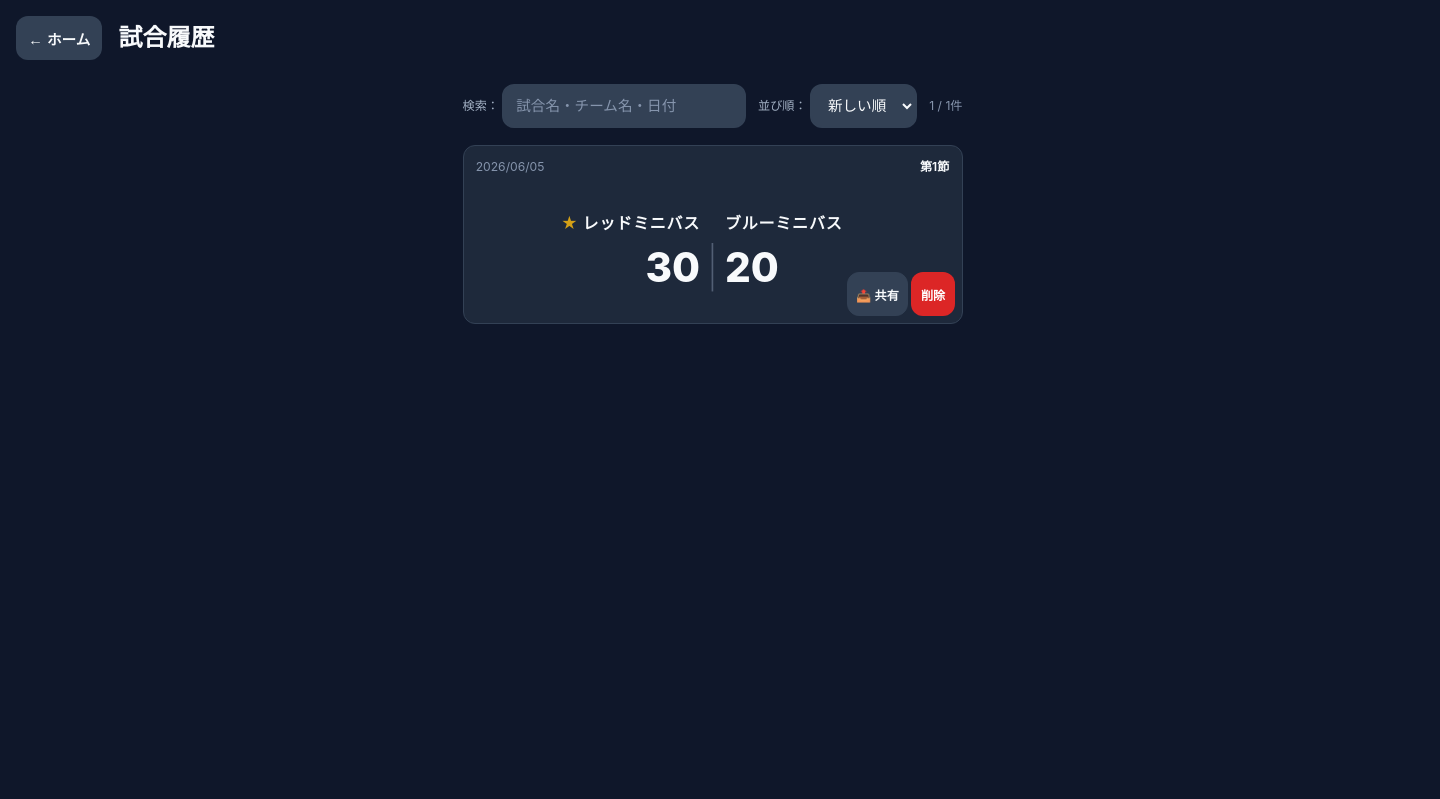
Scenario: 試合履歴のカード › ボタンを押すと詳細が開く
Click the button "2026/06/05 第1節 ★ レッドミニバス 30 | ブルーミニバス 20": (510, 166) [476,158,949,311]
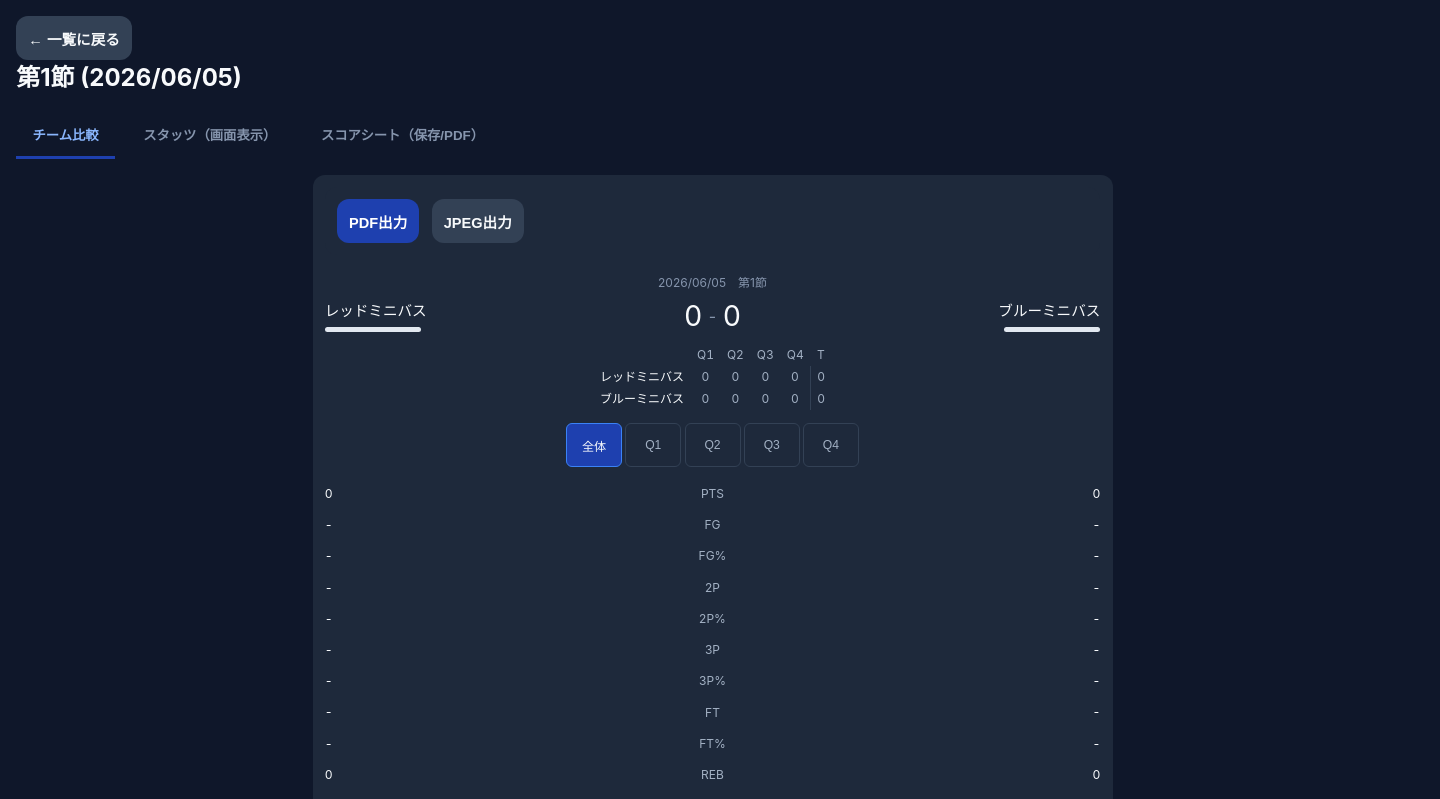
Now the button "← 一覧に戻る" is shown, box [16,16,132,60]
